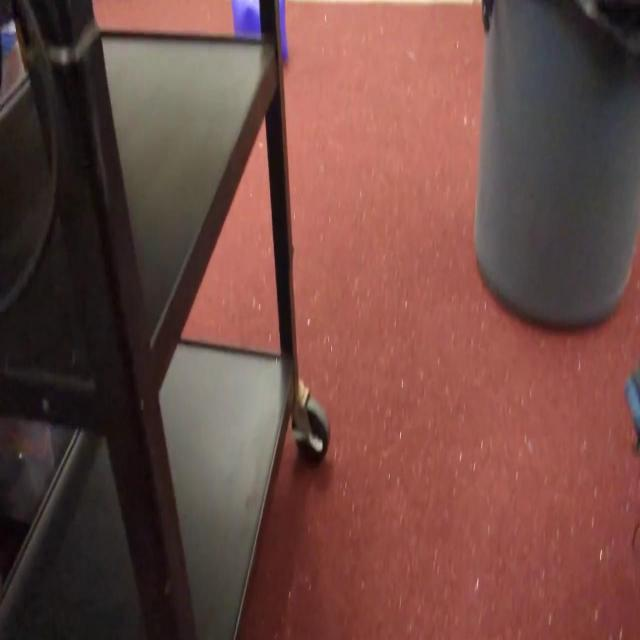frc_cube: (232, 0, 288, 57)
